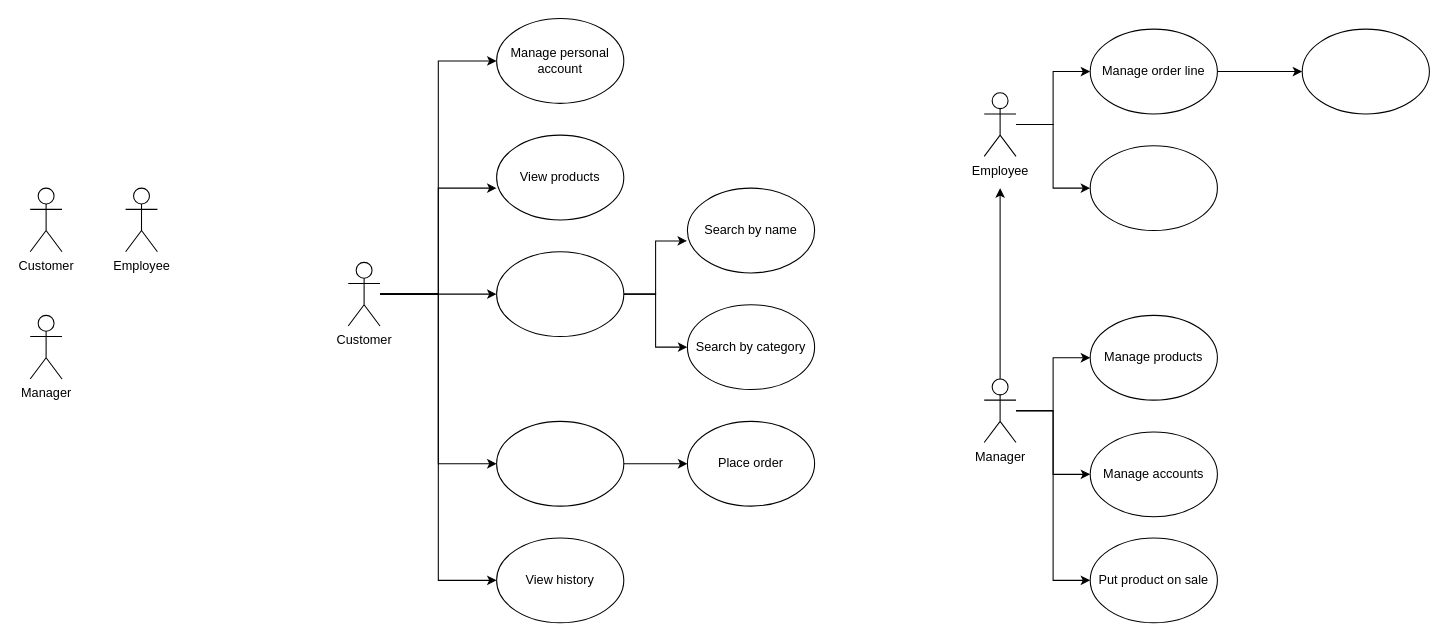
This 1448x641 diagram has some shape labels left out. The shapes that lost their labels are listed below. From the top down, each one's centre as x and y in pixels, then its label:
At point 1365,71: "Confirm order".
At point 1153,188: "Check nearly exprire products".
At point 560,294: "Search products".
At point 560,463: "Manage cart".
